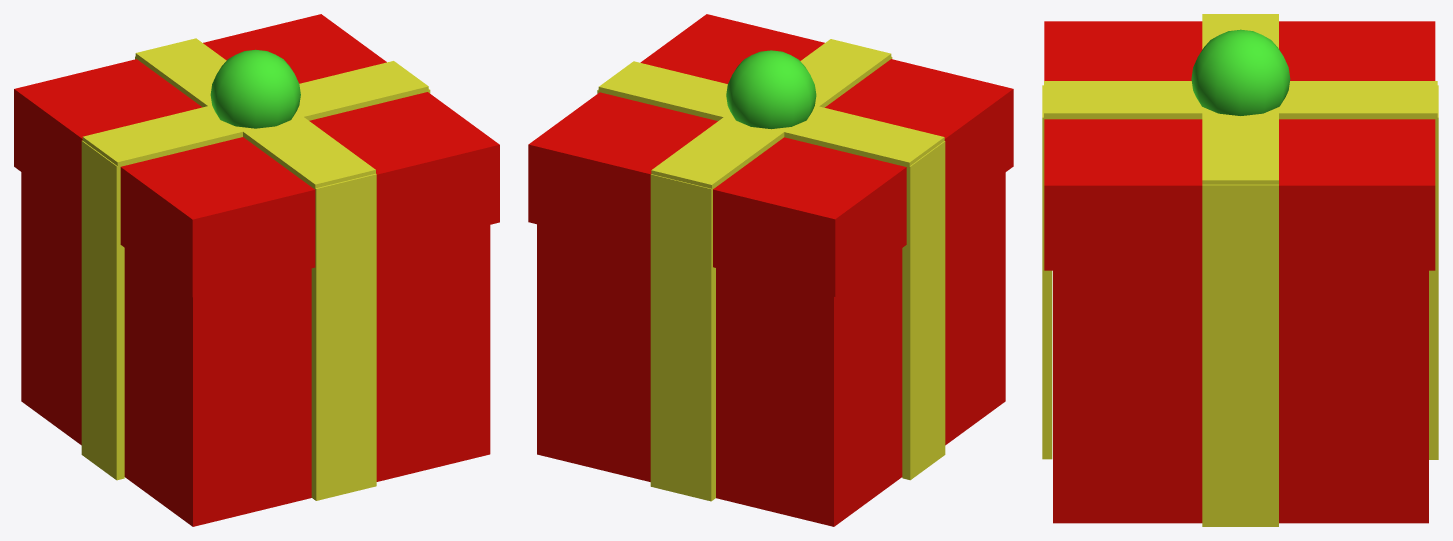
Rendered from giftbox.fbx.
3 views of the same model, side by side, from view 1: azimuth 30°, elevation 25°; view 2: azimuth 150°, elevation 25°; view 3: azimuth 270°, elevation 25° (orthographic). The views are drawn at different scales.
Parts seen in each view (by area): view 1: Cube, Cube.003, Cube.005, Cube.004, Cube.001, Sphere; view 2: Cube, Cube.002, Cube.005, Cube.004, Cube.001, Sphere; view 3: Cube, Cube.006, Cube.001, Cube.004, Sphere, Cube.003, Cube.002.
Boxes of the visible parts, left/top/right/bottom form: Cube: left=14, top=14, right=499, bottom=526; Cube.003: left=311, top=173, right=376, bottom=500; Cube.005: left=81, top=140, right=124, bottom=480; Cube.004: left=82, top=61, right=428, bottom=169; Cube.001: left=135, top=38, right=375, bottom=189; Sphere: left=210, top=49, right=300, bottom=128; Cube: left=528, top=14, right=1013, bottom=526; Cube.002: left=650, top=174, right=715, bottom=501; Cube.005: left=902, top=141, right=945, bottom=480; Cube.004: left=598, top=61, right=944, bottom=169; Cube.001: left=651, top=39, right=891, bottom=191; Sphere: left=726, top=50, right=816, bottom=129; Cube: left=1044, top=21, right=1435, bottom=523; Cube.006: left=1202, top=184, right=1278, bottom=526; Cube.001: left=1044, top=81, right=1437, bottom=121; Cube.004: left=1202, top=14, right=1278, bottom=184; Sphere: left=1191, top=29, right=1290, bottom=115; Cube.003: left=1042, top=85, right=1052, bottom=459; Cube.002: left=1428, top=85, right=1438, bottom=459.
Size of the model in its own units: 211 by 241 by 211.
